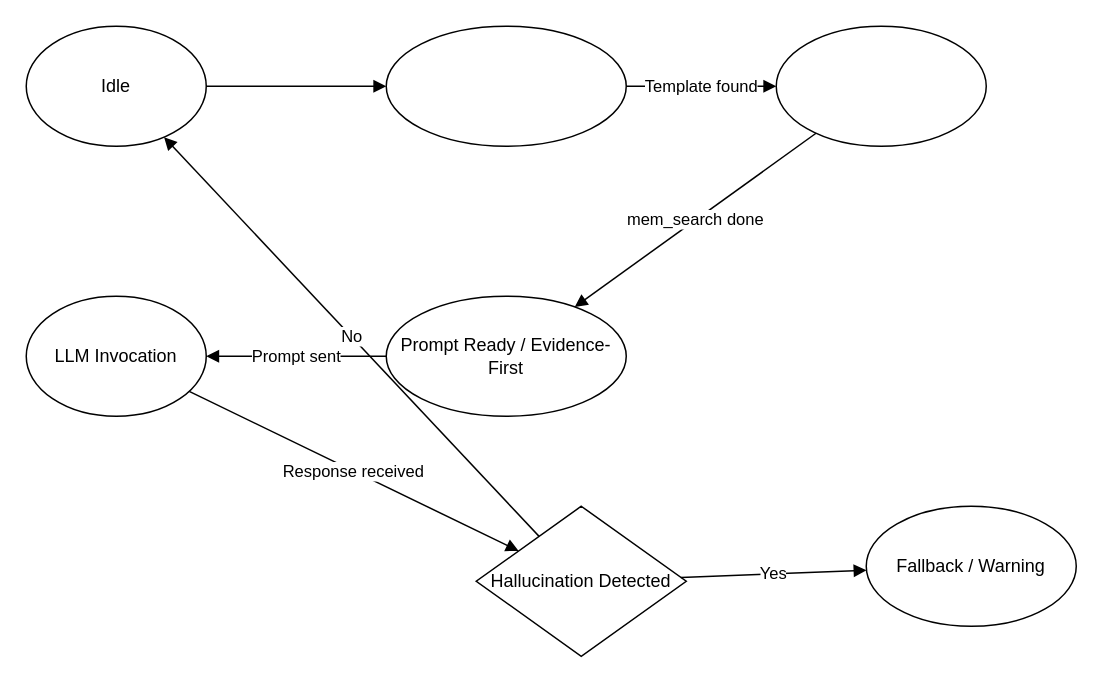
Some shapes in this 1103 by 683 pixel diagram are drawn without their labels. Here are the shapes that lost their labels. From the top down, the centre of each, then its label:
At [505,85]: "Loading Prompt Template".
At [880,85]: "Enriching with KB".
